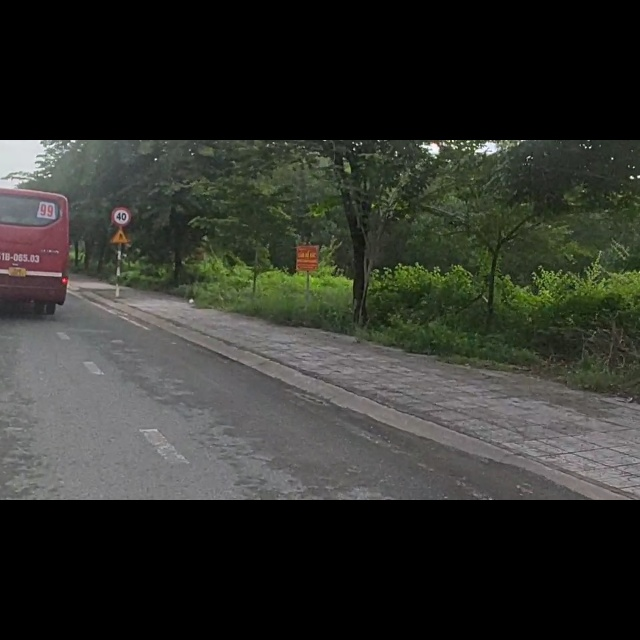bien_nguy_hiem: (111, 114, 134, 155), (111, 153, 131, 188)
